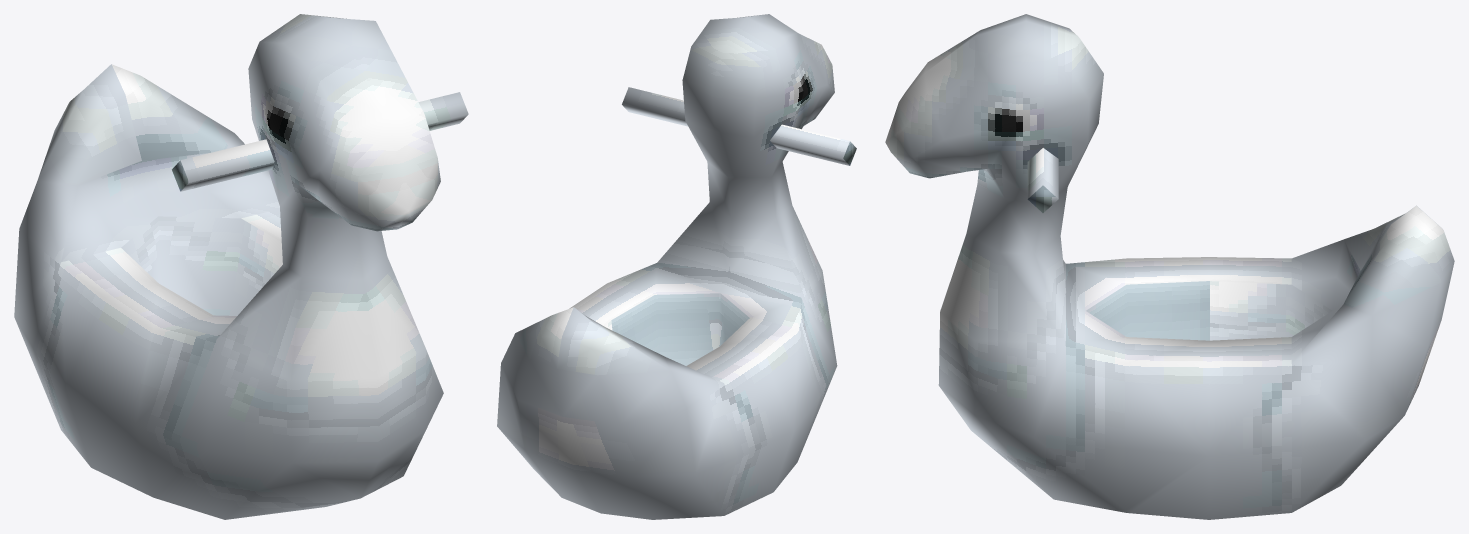
File: rmk_oth_potty.dae
3 renders of one model, left to right at view 1: azimuth 30°, elevation 25°; view 2: azimuth 150°, elevation 25°; view 3: azimuth 270°, elevation 25°, orthographic. The views are drawn at different scales.
Visible parts, largest first — view 1: rmk_oth_potty; view 2: rmk_oth_potty; view 3: rmk_oth_potty.
Part boxes in pixels (x1,y1,x2,y2): rmk_oth_potty: (14,14,468,519); rmk_oth_potty: (497,14,856,519); rmk_oth_potty: (885,14,1454,519).
Bounding box in the file's own units: 14.48 × 21.02 × 24.68.
Materials: 1 (1 with a texture image).
